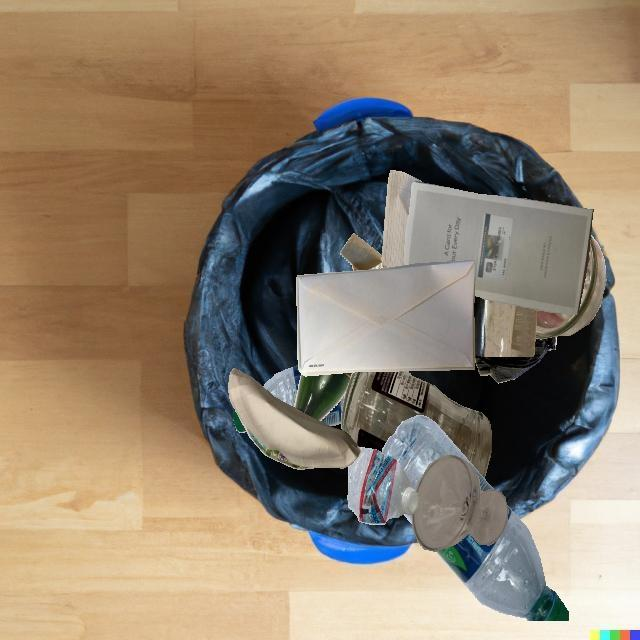cardboard: (339, 233, 384, 271)
glass: (341, 371, 492, 478), (412, 454, 508, 551), (535, 234, 606, 339), (474, 296, 537, 357), (294, 372, 353, 421)
paper: (404, 181, 593, 314), (296, 261, 476, 376), (228, 368, 360, 470), (382, 170, 423, 268)
plastic: (436, 504, 568, 621), (383, 453, 505, 530), (382, 415, 494, 492), (347, 447, 418, 524), (475, 336, 557, 383), (234, 397, 325, 419), (263, 365, 301, 405)
